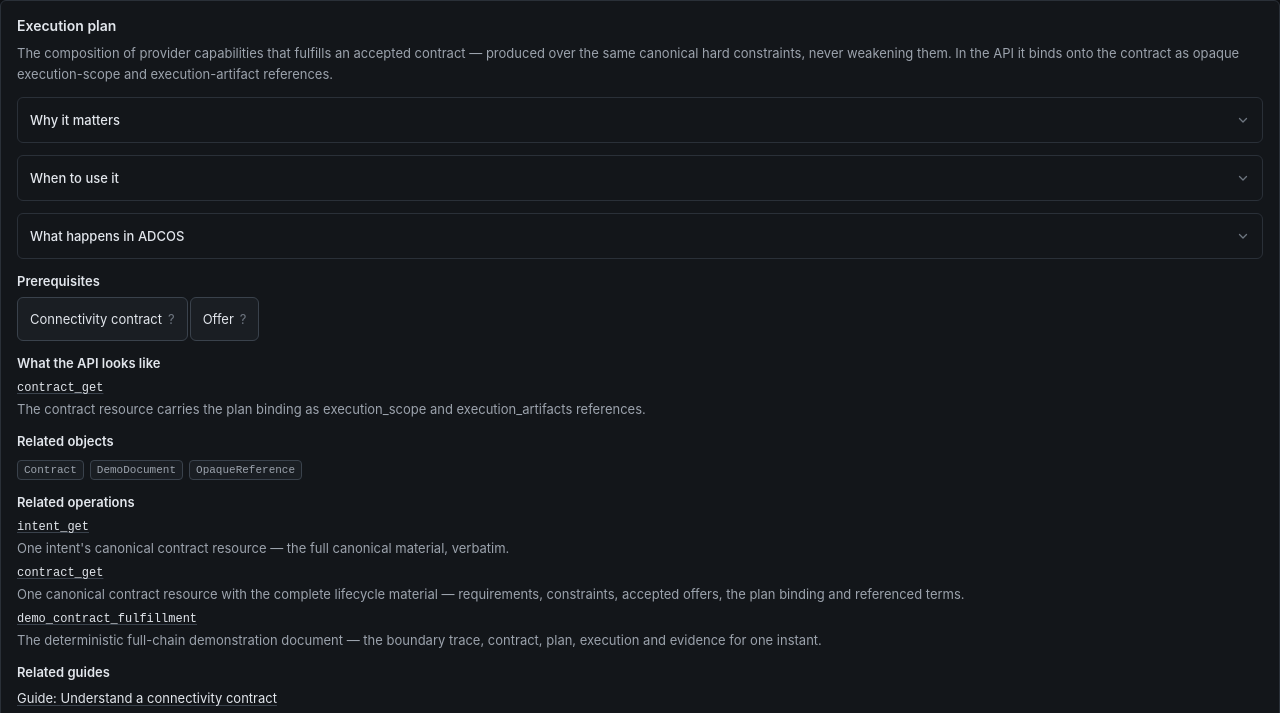
Test: learning primitives › block mode: renders the term heading, the summary, and the progressively-disclosed registry sections
This screenshot has width=1280, height=713.
Check: the heading "Execution plan" is shown, box [17,17,116,34]
Check: the text "The composition of provider capabilities that fulfills an accepted contract" is shown, box [17,45,1239,82]
Click the button "Why it matters": (75, 120) [18,98,1262,142]
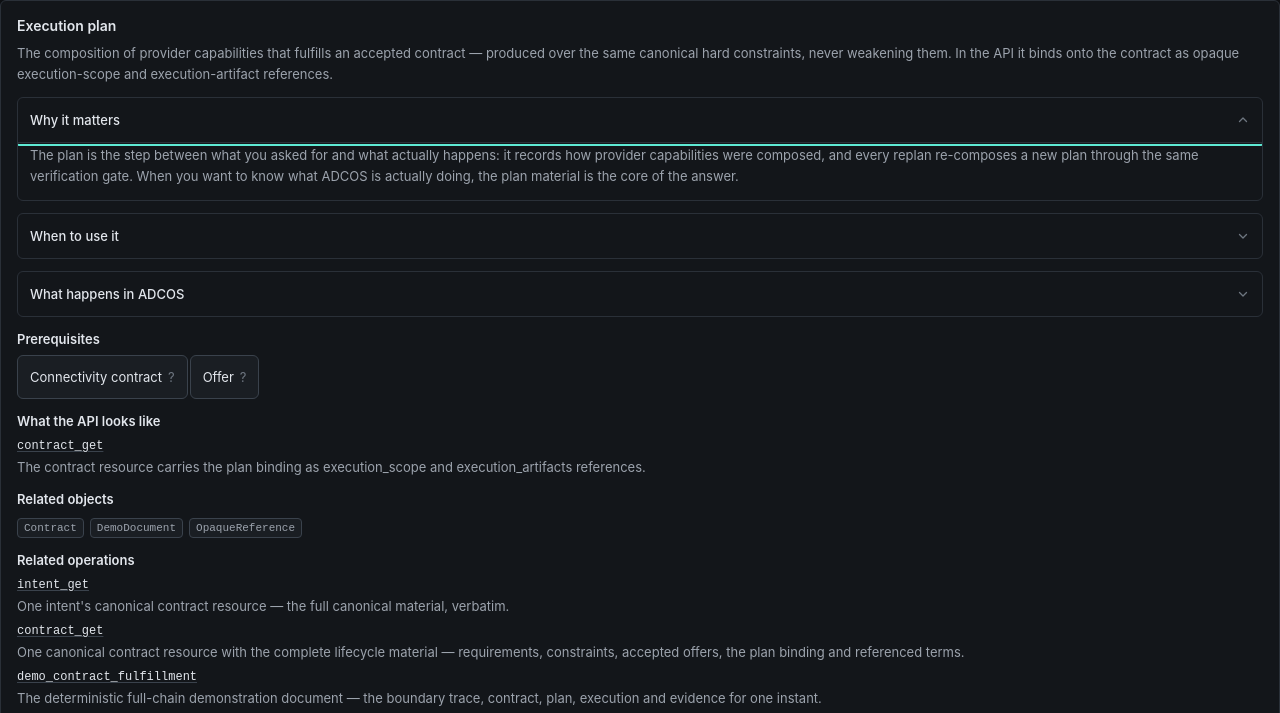
Check: the button "Why it matters" is expanded, box [18,98,1262,142]
Check: the text "The plan is the step between what you asked for and what actually happens" is shown, box [30,147,1199,184]
